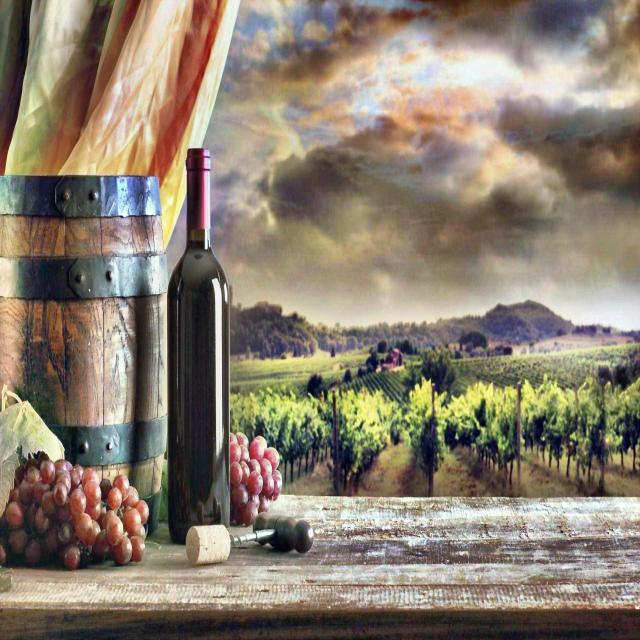cork: (185, 518, 232, 569)
